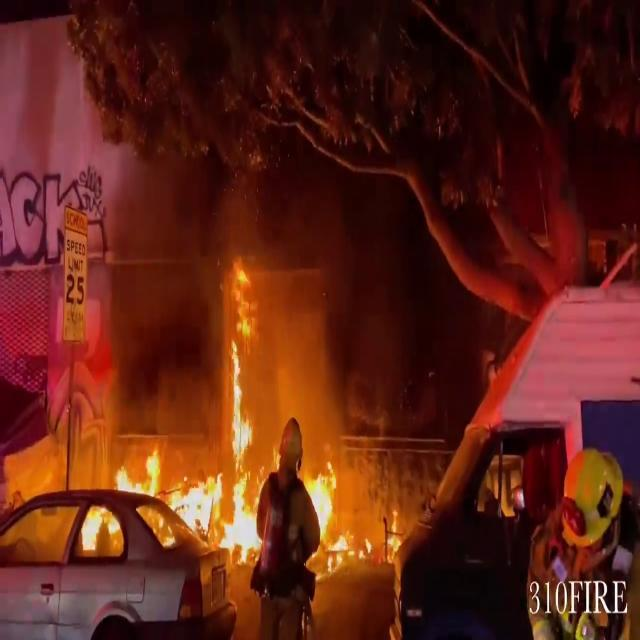Fire: (210, 266, 390, 564), (82, 453, 210, 566)
Smoke: (80, 145, 232, 445)
